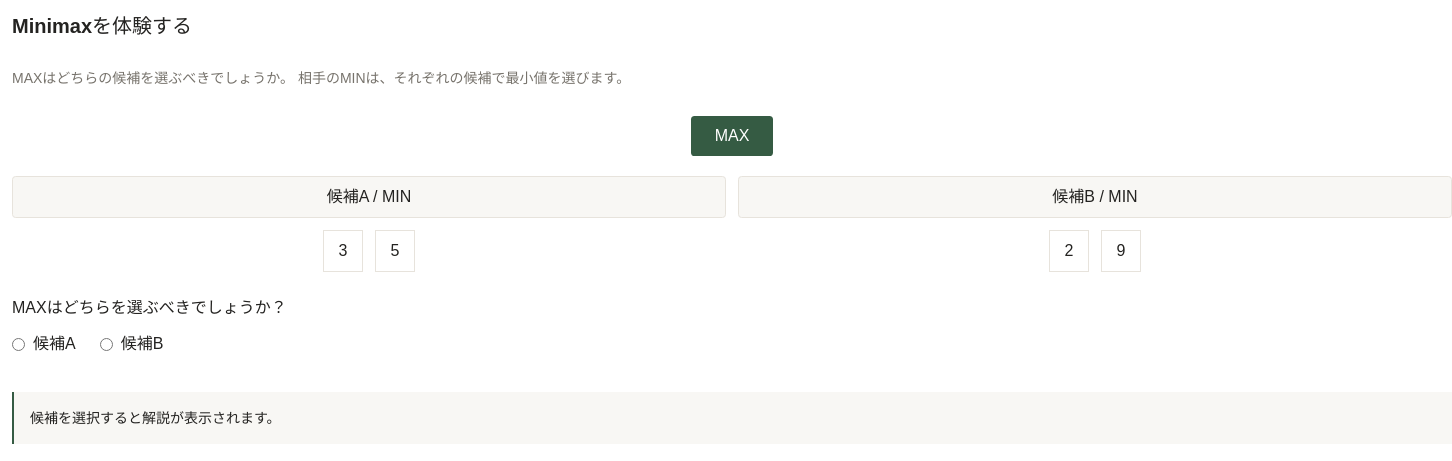
MinimaxDemo › 候補Aを選択すると正解を表示する
// ラジオボタンの候補Aを選択する
Click the radio button labelled "候補A". click: (18, 344)
box: [12, 338, 25, 350]
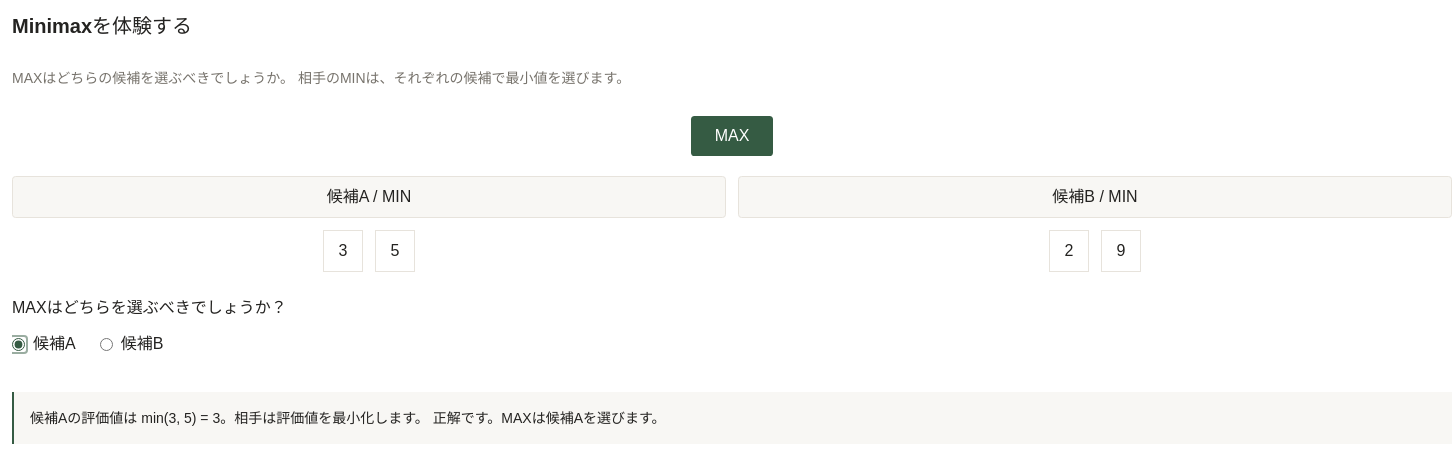
Now the message shows "正解です", box [30, 410, 666, 426]
Now the message shows "min(3, 5) = 3", box [30, 410, 666, 426]
